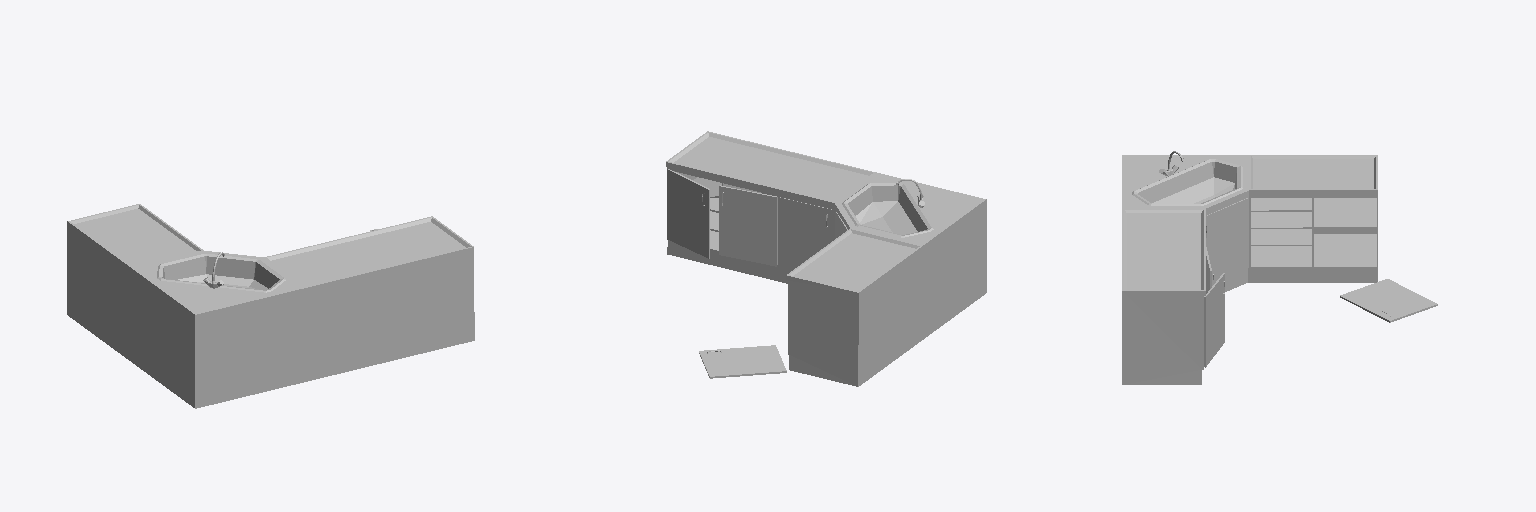
The model's file is Kitchen02b.obj.
3 views of the same model, side by side, from view 1: azimuth 30°, elevation 25°; view 2: azimuth 150°, elevation 25°; view 3: azimuth 270°, elevation 25° (orthographic).
Parts seen in each view (by area): view 1: Kitchen02b_LOD0_Kitchen.004; view 2: Kitchen02b_LOD0_Kitchen.004; view 3: Kitchen02b_LOD0_Kitchen.004.
Boxes of the visible parts, box(x1,y1,x2,y2) form: Kitchen02b_LOD0_Kitchen.004: box(67, 204, 474, 408); Kitchen02b_LOD0_Kitchen.004: box(666, 131, 986, 386); Kitchen02b_LOD0_Kitchen.004: box(1122, 151, 1437, 384).
Bounding box in the file's own units: 2.7 × 1.13 × 2.65.